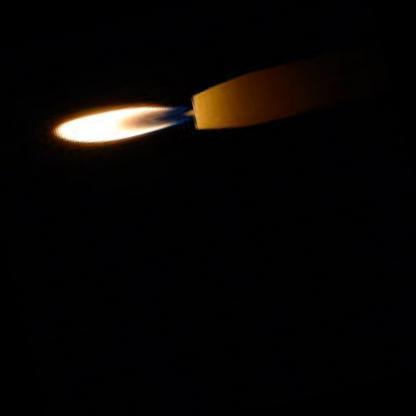Fire: (48, 102, 184, 144)
